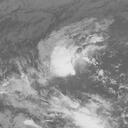cyclone: (38, 34, 78, 78)
